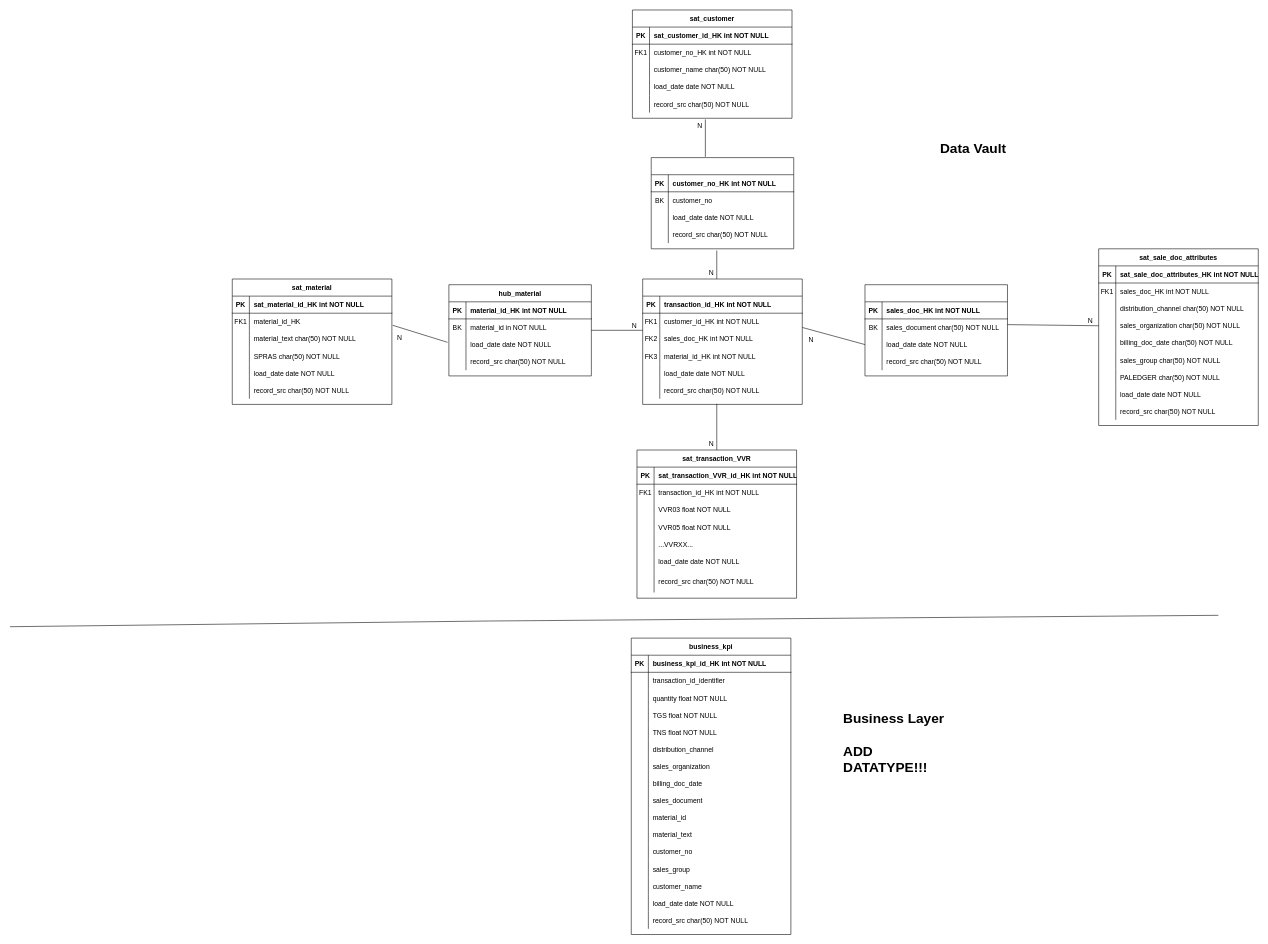
Some shapes in this 1268 by 944 pixel diagram are drawn without their labels. Each missing label, with the box of its shape:
hub_customer: (651, 157, 794, 249)
hub_sales_doc: (864, 284, 1007, 376)
link_transaction: (642, 278, 802, 404)
